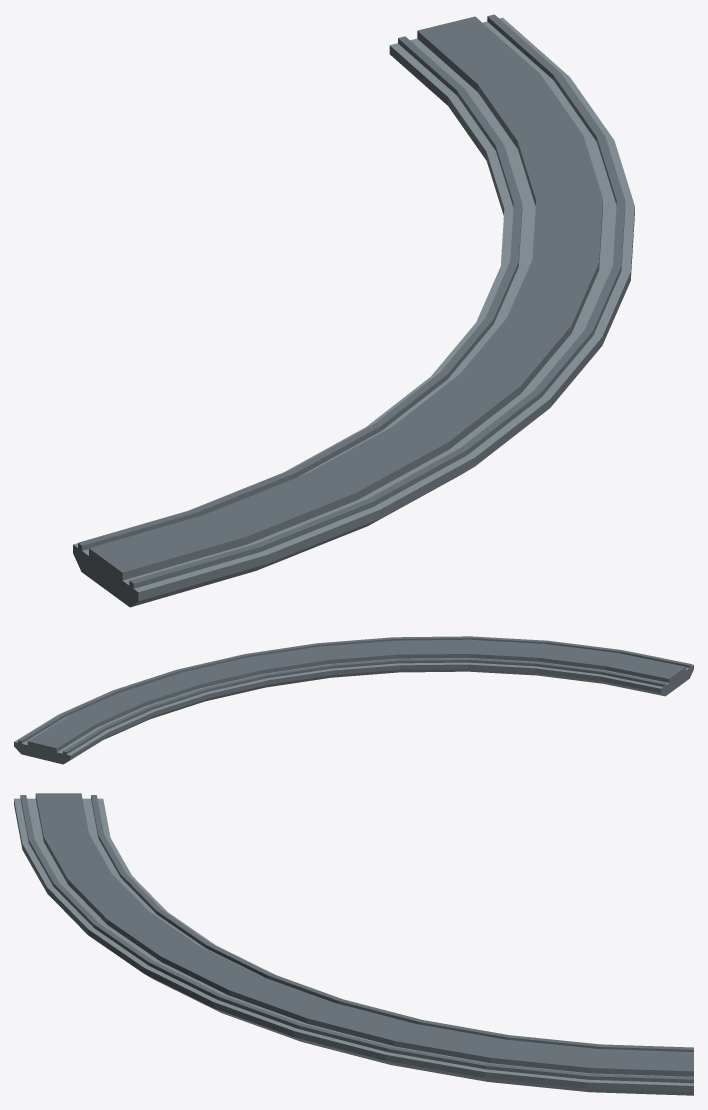
File: SM_monorail_tracks_03.glb
The picture shows the model from 3 angles, top to bottom: view 1: azimuth 30°, elevation 25°; view 2: azimuth 150°, elevation 25°; view 3: azimuth 270°, elevation 25°; orthographic projection. The views are drawn at different scales.
Parts seen in each view (by area): view 1: SM_monorail_tracks_03; view 2: SM_monorail_tracks_03; view 3: SM_monorail_tracks_03.
Part boxes in pixels (x1,y1,x2,y2): SM_monorail_tracks_03: [73, 14, 634, 607]; SM_monorail_tracks_03: [14, 636, 693, 764]; SM_monorail_tracks_03: [14, 793, 693, 1095].
Bounding box in the file's own units: 10 × 0.3243 × 10.
1 material, 1 textured.
